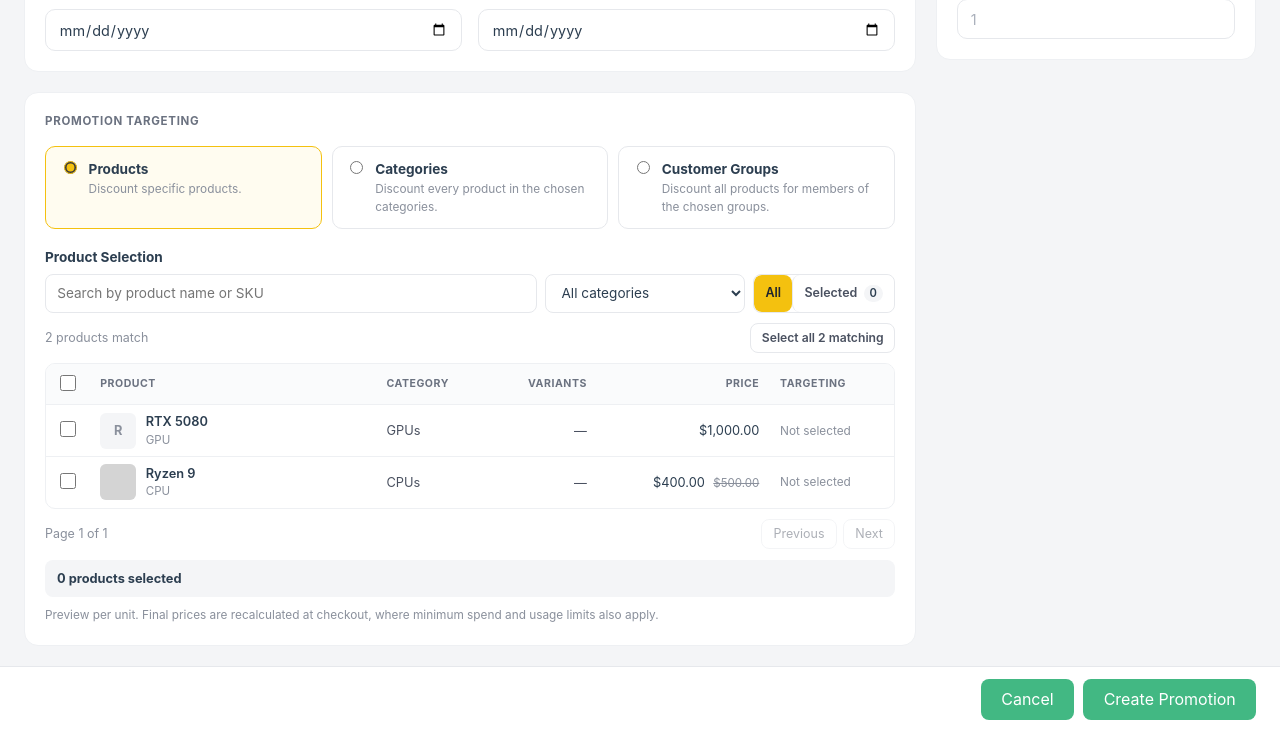
Test case: PromotionFormView — targeting › clears the previous selection when the target type changes
The width and height of the screenshot is (1280, 732).
(page scrolled)
What coordinates should you click on to do the following:
click the checkbox named "Select RTX 5080"
I would click on:
 (68, 429)
Its box is [60, 421, 76, 437].
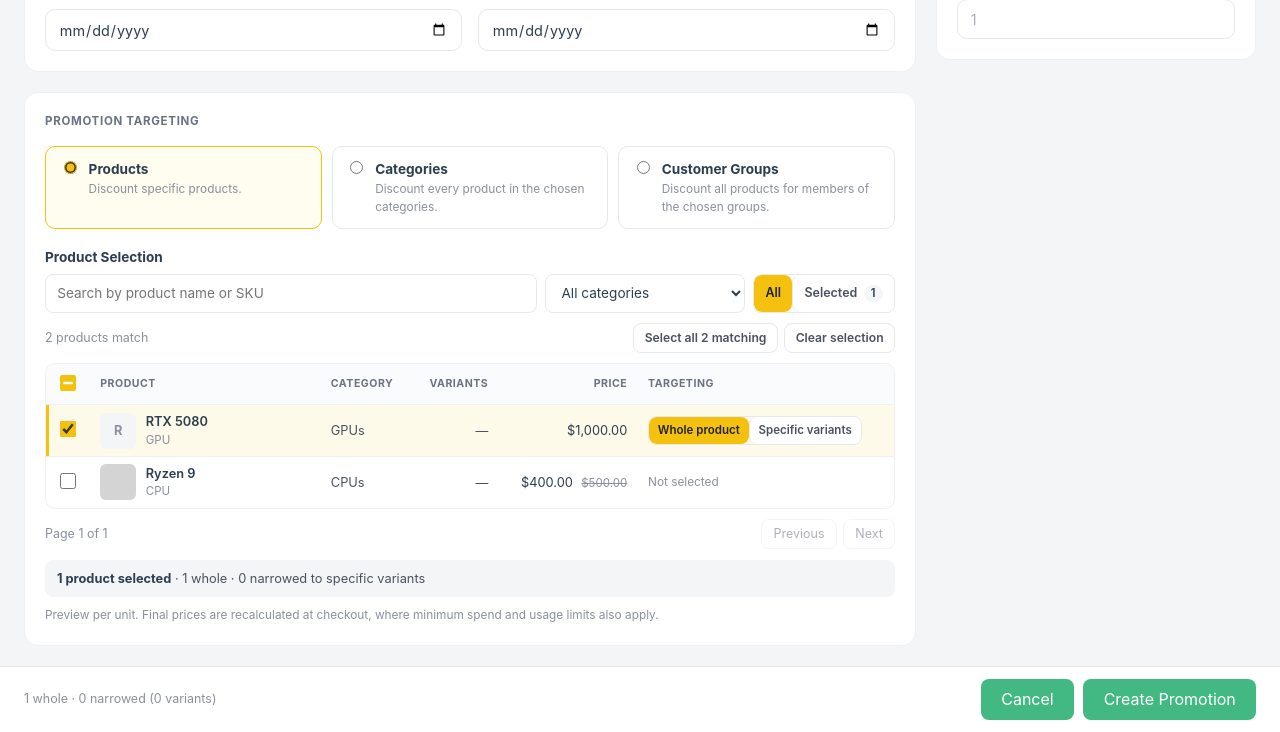
Expected: the text "1 product selected" is shown, [57, 571, 171, 586]
What coordinates should you click on to do the following:
click the radio button labelled "Categories Discount every product in the chosen categories."
I would click on:
 (357, 168)
Its box is [350, 161, 363, 174].
(page scrolled)
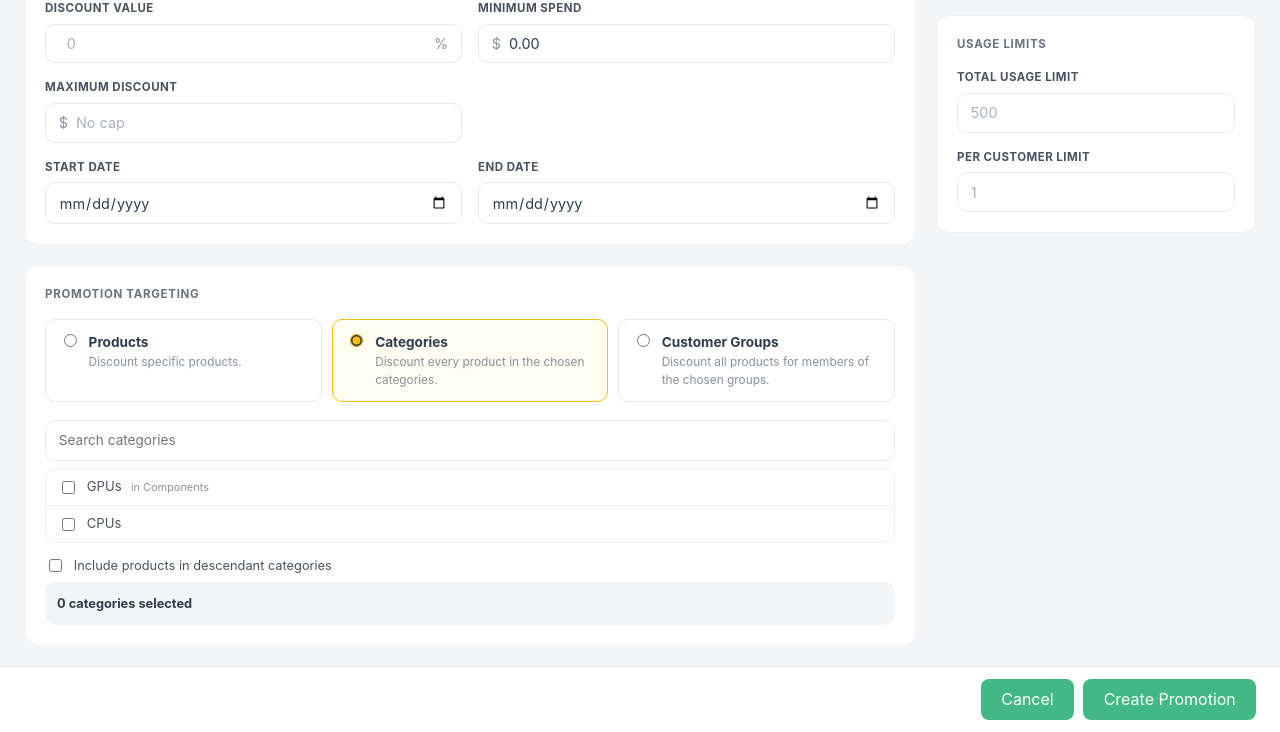
What coordinates should you click on to do the following:
click the radio button labelled "Products Discount specific products."
I would click on:
 (70, 340)
Its box is [64, 334, 77, 347].
(page scrolled)
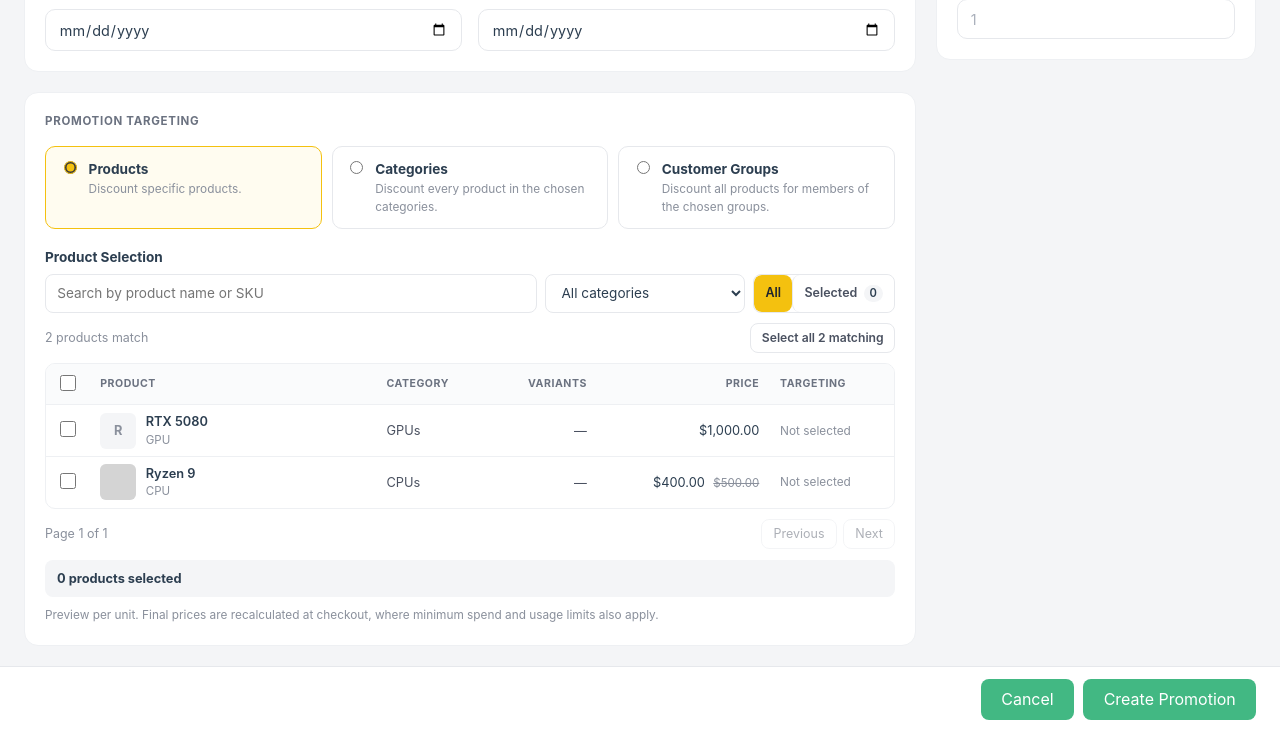
Expected: the text "0 products selected" is shown, [57, 571, 182, 586]
